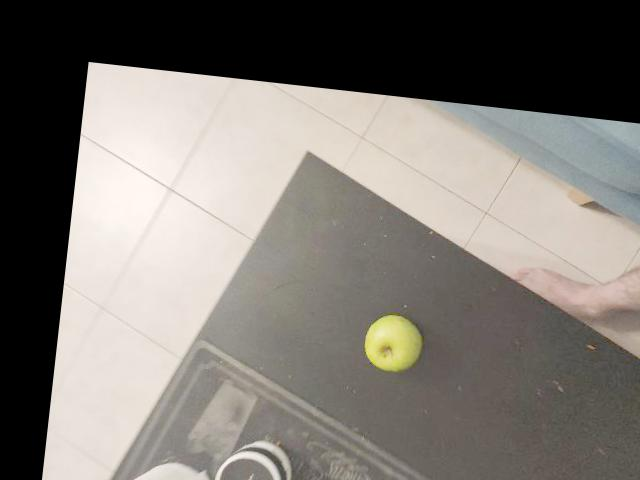apple: (276, 201, 348, 273)
